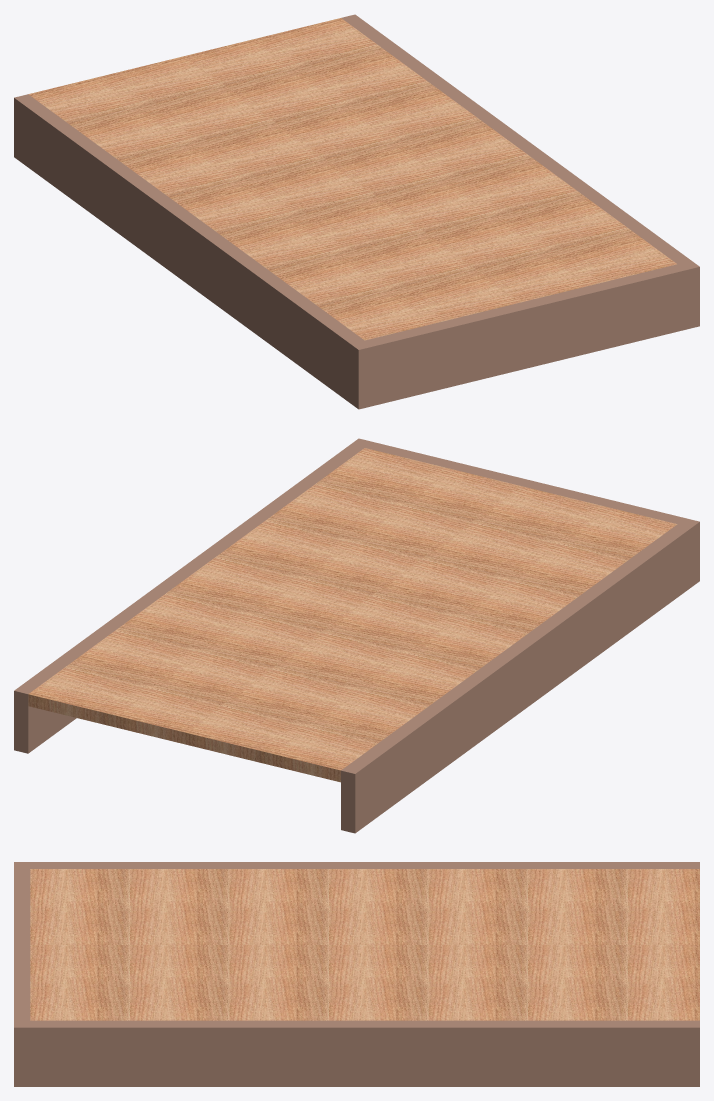
3 views of the same model, one above another, from view 1: azimuth 30°, elevation 25°; view 2: azimuth 150°, elevation 25°; view 3: azimuth 270°, elevation 25° (orthographic).
Visible parts, largest first — view 1: 0_0_2_2_1_1_1_3_0; view 2: 0_0_2_2_1_1_1_3_0; view 3: 0_0_2_2_1_1_1_3_0.
Part boxes in pixels (x1=…): 0_0_2_2_1_1_1_3_0: x1=14, y1=14, x2=699, y2=409; 0_0_2_2_1_1_1_3_0: x1=14, y1=438, x2=699, y2=833; 0_0_2_2_1_1_1_3_0: x1=14, y1=862, x2=699, y2=1086.
Size of the model in its own units: 1.2 by 0.2 by 2.1.
2 materials, 1 textured.
